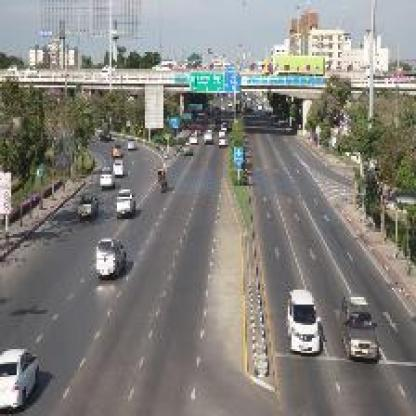other: (79, 221, 127, 290)
